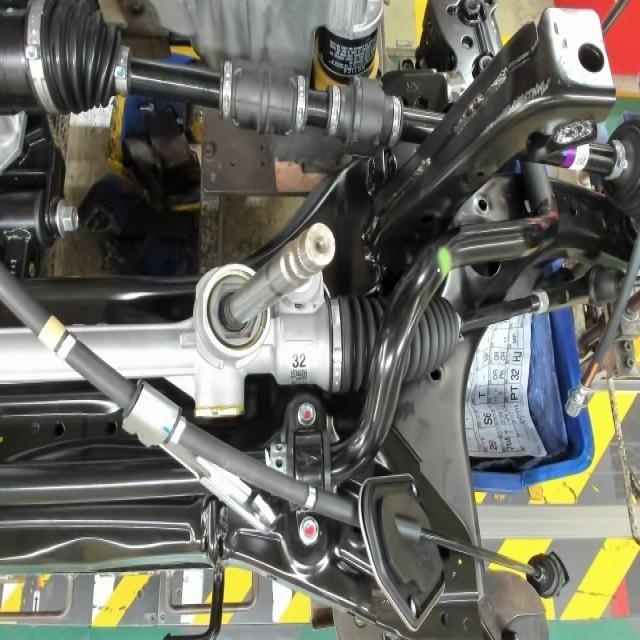Bar Stabilizer-HJ: (436, 245, 456, 287)
